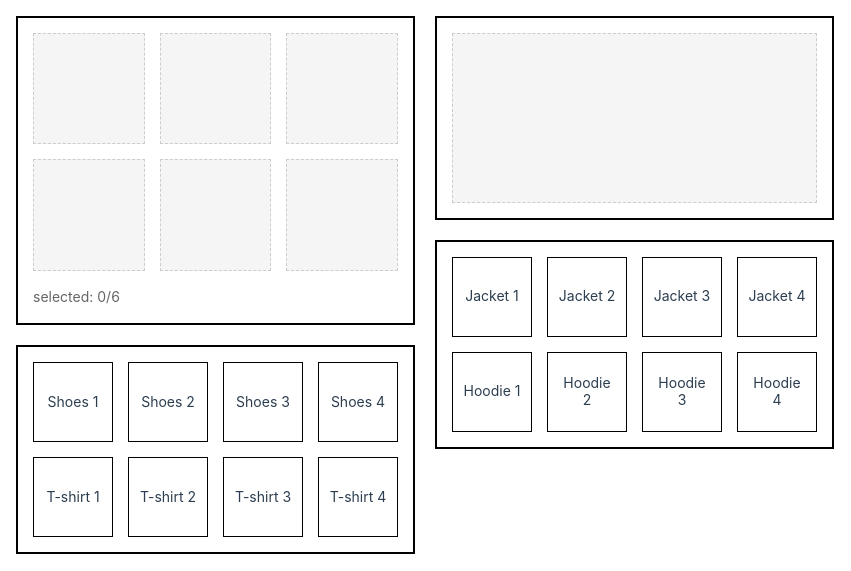
Test: Item Selection Tests › should allow selecting up to 6 user items
Click the element with class "item-box" showing "Shoes 1": (73, 402) [33,362,113,442]
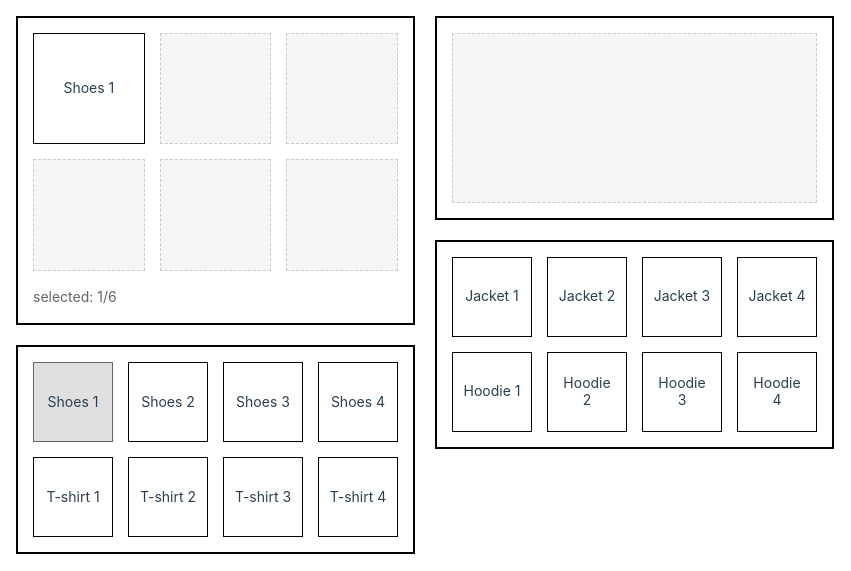
Click the element with class "item-box" showing "Shoes 2": (168, 402) [128,362,208,442]
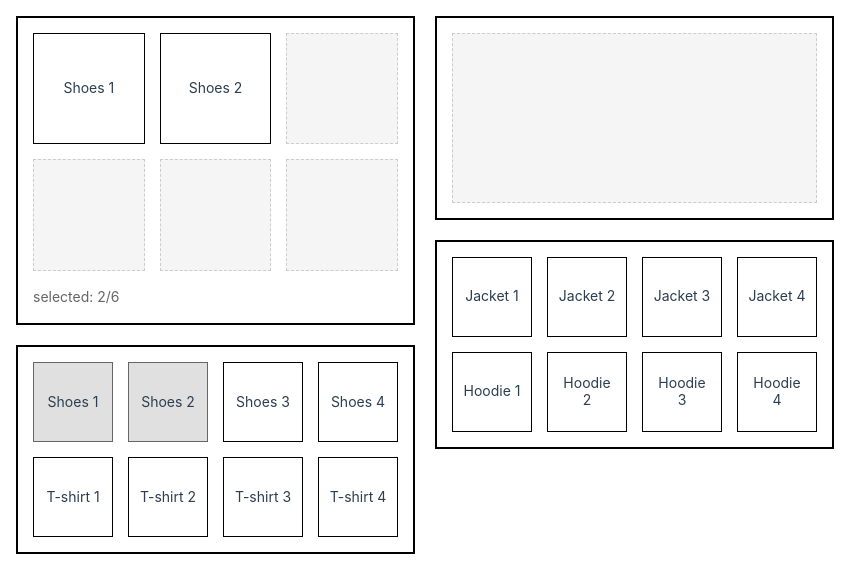
Now the text with class "selection-info" reads "selected: 2/6", box [33,288,120,305]
